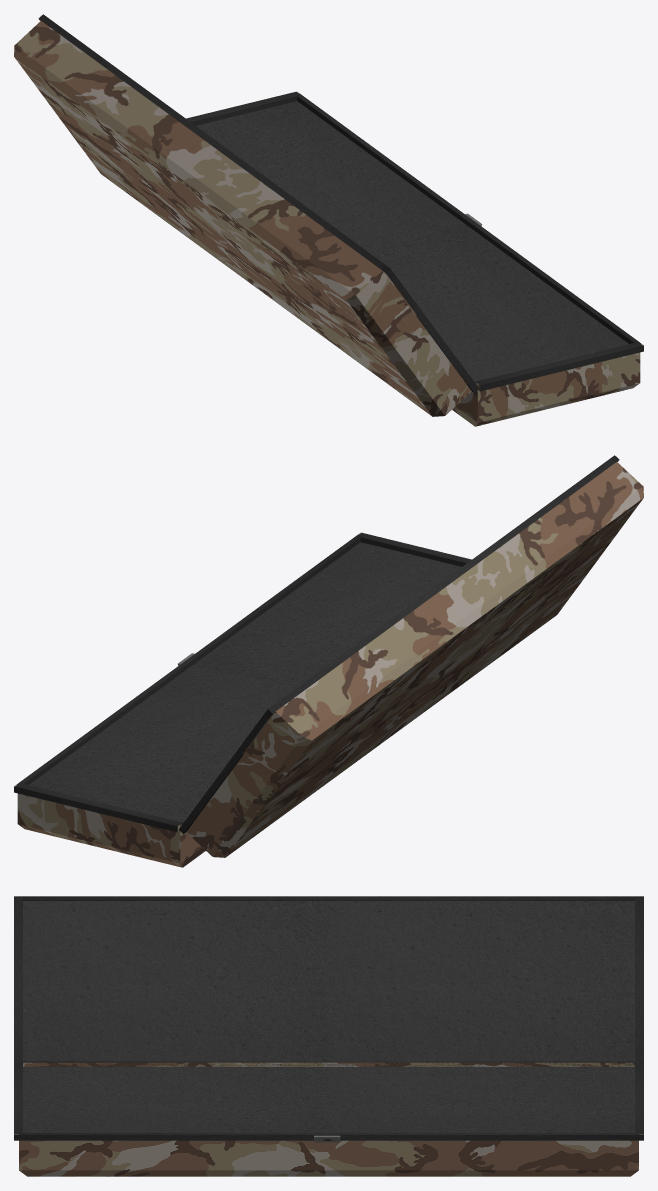
Rendered from Case.fbx.
The picture shows the model from 3 angles, top to bottom: view 1: azimuth 30°, elevation 25°; view 2: azimuth 150°, elevation 25°; view 3: azimuth 270°, elevation 25°; orthographic projection. The views are drawn at different scales.
Visible parts, largest first — view 1: Case_001, Sponge; view 2: Case_001, Sponge; view 3: Sponge, Case_001.
Part boxes in pixels (x1,y1,x2,y2): Case_001: (14,14,643,426); Sponge: (196,101,628,381); Case_001: (14,455,643,867); Sponge: (29,542,461,822); Sponge: (23,901,634,1132); Case_001: (14,896,643,1176).
Bounding box in the file's own units: 7.19 × 4.36 × 14.68.
